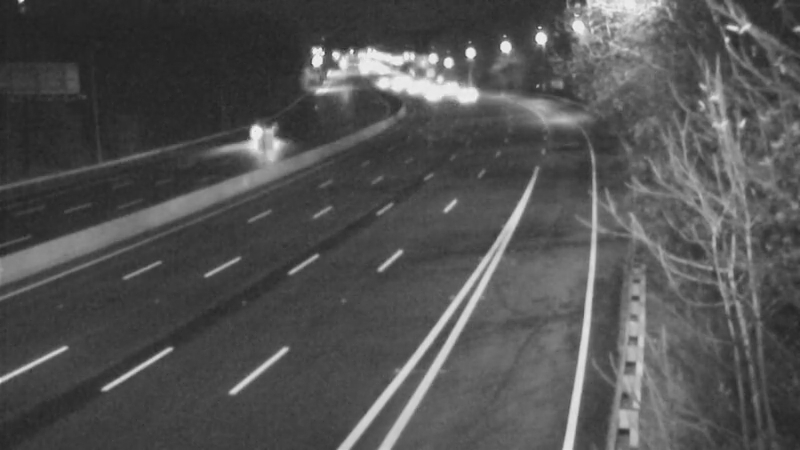vehicle: (444, 73, 494, 123), (237, 112, 287, 162)
